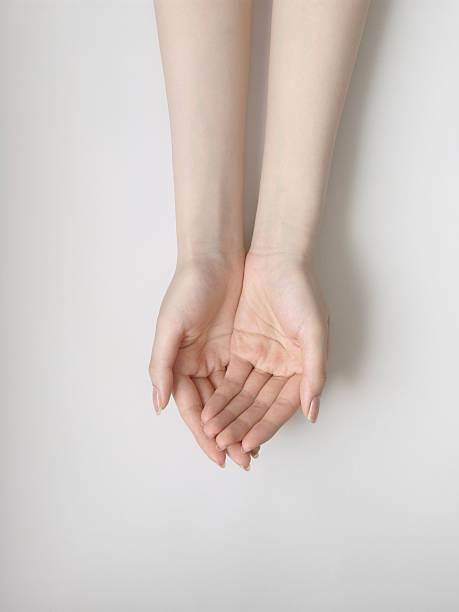hand: (128, 230, 363, 503)
